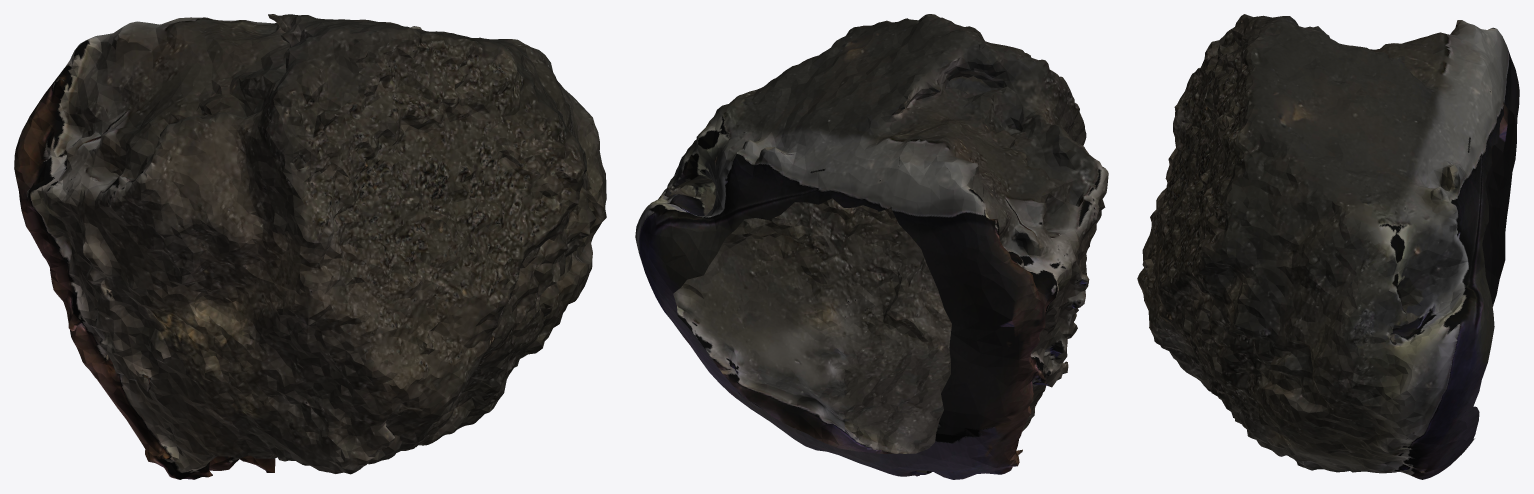
Rendered from coal.dae.
The picture shows the model from 3 angles, left to right: view 1: azimuth 30°, elevation 25°; view 2: azimuth 150°, elevation 25°; view 3: azimuth 270°, elevation 25°; orthographic projection. The views are drawn at different scales.
Parts seen in each view (by area): view 1: node; view 2: node; view 3: node.
Part boxes in pixels (left/top/right/bottom): node: left=14, top=14, right=606, bottom=479; node: left=635, top=14, right=1108, bottom=479; node: left=1137, top=14, right=1519, bottom=479.
Bounding box in the file's own units: 0.5119 × 0.451 × 0.3626.
1 material, 1 textured.
